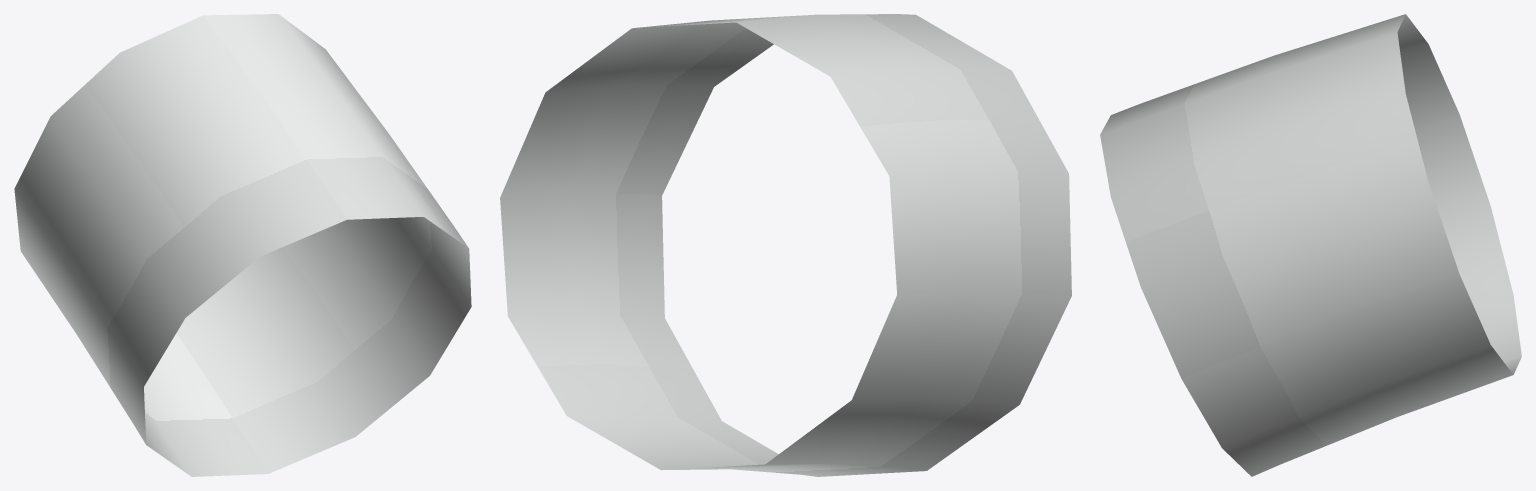
Rendered from luminairearm_caltrans6ftstraightdouble_c1.obj.
The picture shows the model from 3 angles, left to right: view 1: azimuth 30°, elevation 25°; view 2: azimuth 150°, elevation 25°; view 3: azimuth 270°, elevation 25°; orthographic projection. The views are drawn at different scales.
Visible parts, largest first — view 1: luminairearm_caltrans6ftstraightdouble_c1; view 2: luminairearm_caltrans6ftstraightdouble_c1; view 3: luminairearm_caltrans6ftstraightdouble_c1.
Boxes of the visible parts, x1=… form: luminairearm_caltrans6ftstraightdouble_c1: x1=14, y1=14, x2=471, y2=476; luminairearm_caltrans6ftstraightdouble_c1: x1=500, y1=14, x2=1071, y2=476; luminairearm_caltrans6ftstraightdouble_c1: x1=1100, y1=14, x2=1521, y2=476.
Bounding box in the file's own units: 0.2188 × 0.2622 × 0.236.
